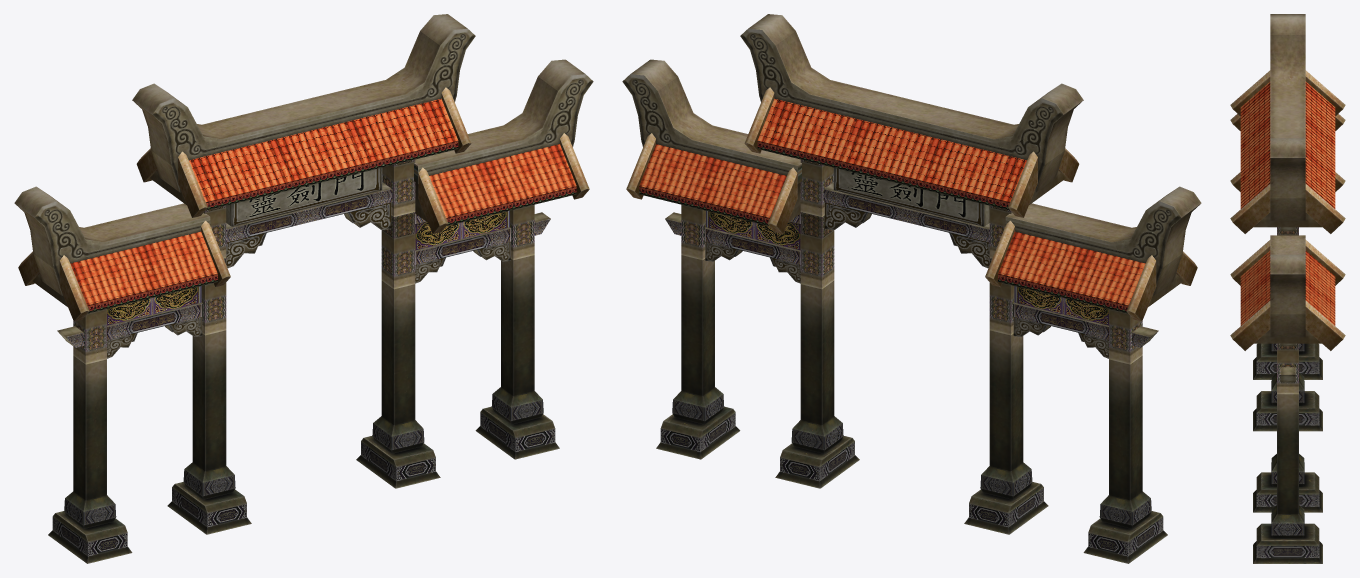
Rendered from SwordSpirit_Road_gate01.FBX.
The picture shows the model from 3 angles, left to right: view 1: azimuth 30°, elevation 25°; view 2: azimuth 150°, elevation 25°; view 3: azimuth 270°, elevation 25°; orthographic projection. The views are drawn at different scales.
Parts seen in each view (by area): view 1: Object19; view 2: Object19; view 3: Object19.
Boxes of the visible parts, x1,y1,x2,y2 form: Object19: (14,14,593,563); Object19: (622,14,1201,563); Object19: (1230,14,1345,563).
Size of the model in its own units: 1231 by 915 by 249.
2 materials, 2 textured.
